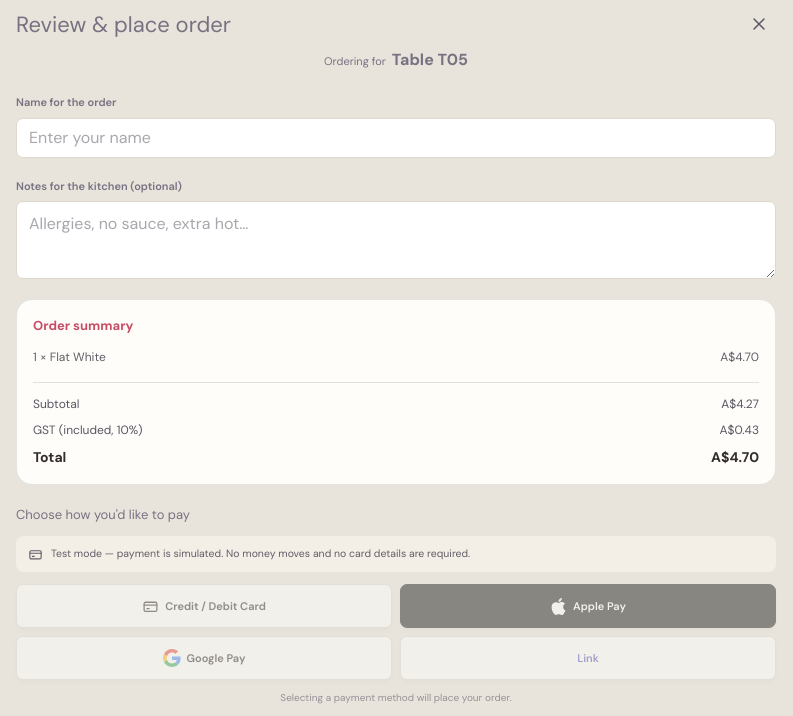
Test: CheckoutScreen › shows progress and disables every method while processing
This screenshot has width=793, height=716.
In the field labelled "Name for the order": (396, 138) [16,118,776,158], type "  Olivia  "
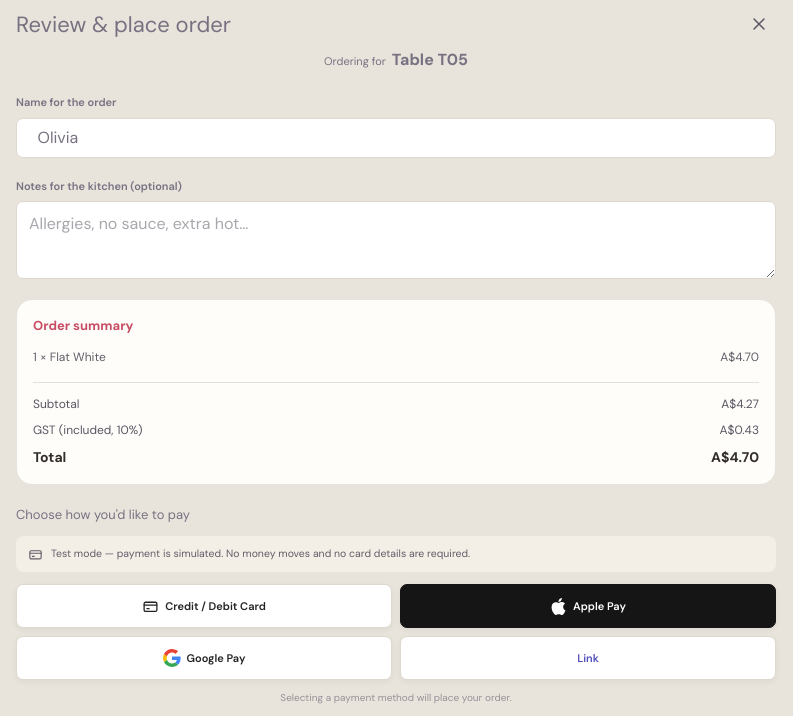
In the text box labelled "Notes for the kitchen (optional)": (396, 240) [16,201,776,279], type "  extra hot  "
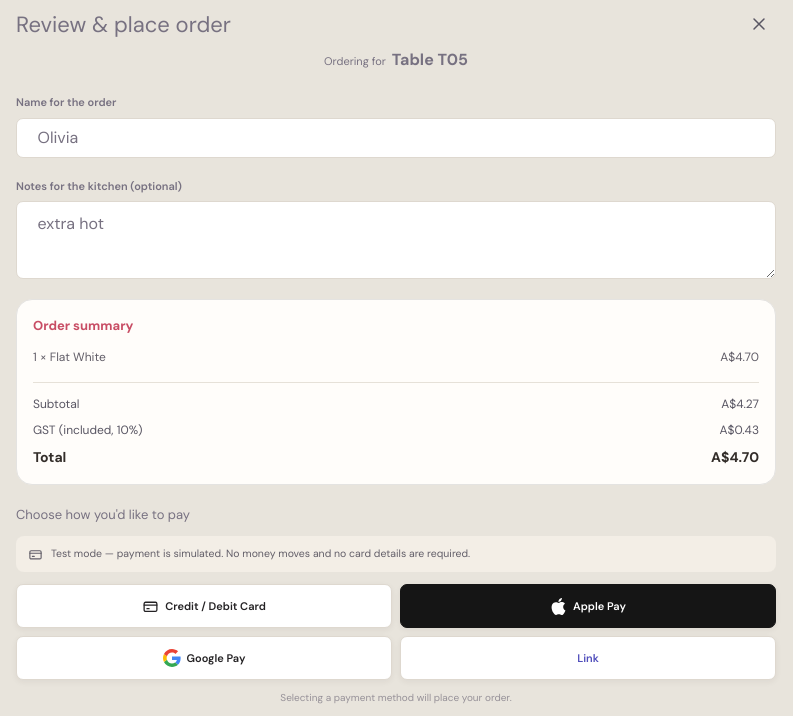
Click the button "Apple Pay": click(588, 606) [400,584,776,628]
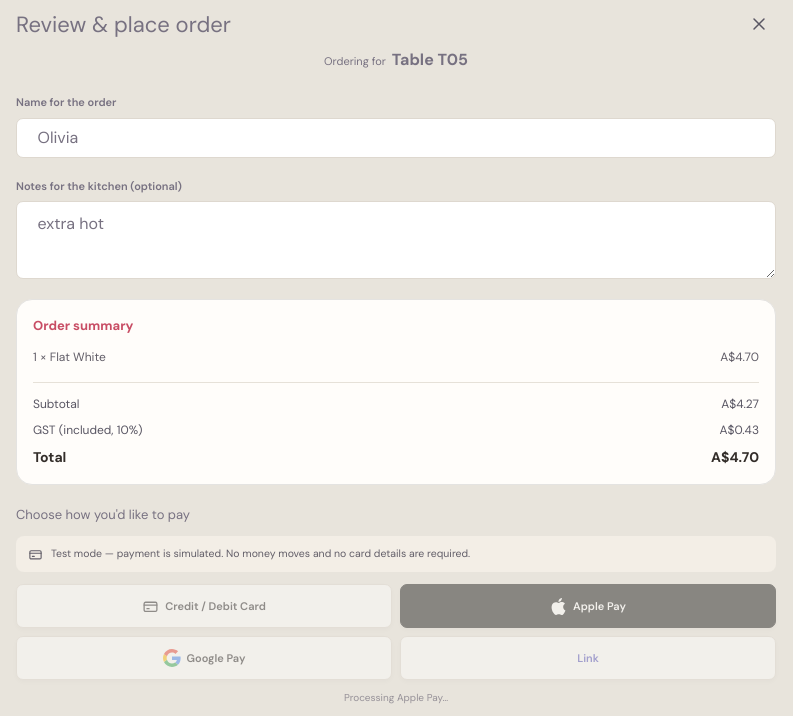
Check: the text "Processing Apple Pay…" is shown, box [344,691,448,704]
Check: the button "Credit / Debit Card" is disabled, box [16,584,392,628]
Check: the button "Link" is disabled, box [400,636,776,680]
